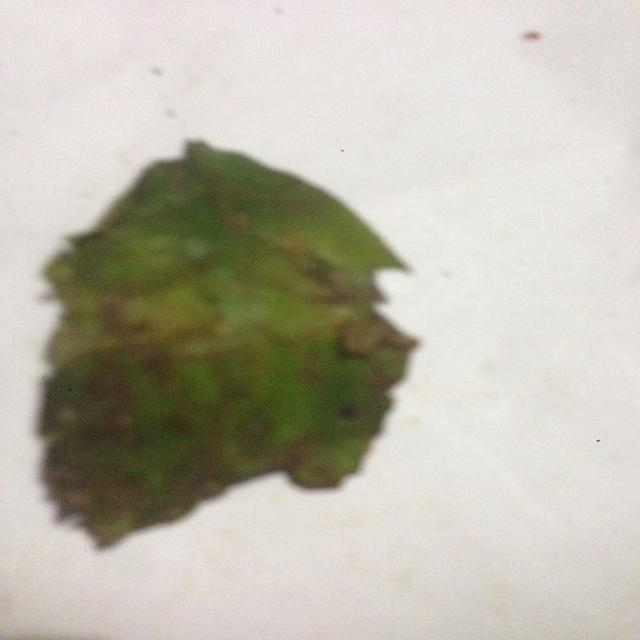Red Leaf Spot: (24, 124, 426, 550)
